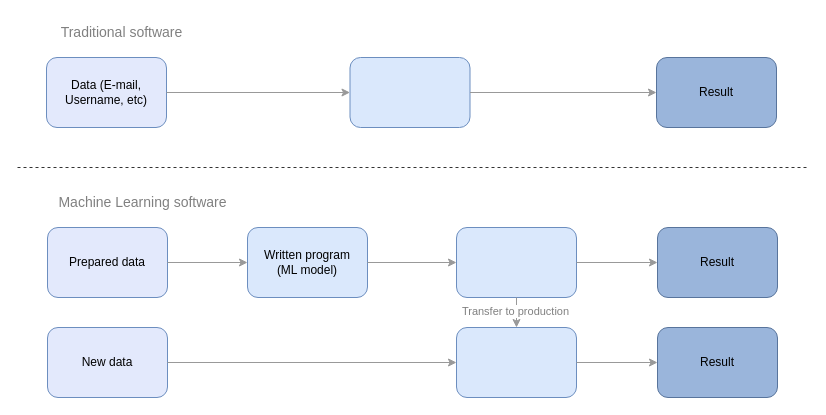
This 826x415 diagram has some shape labels left out. The shapes that lost their labels are listed below. From the top down, each one's box as (x1, y1, x2, y2) in pixels, then its label:
(349, 56, 470, 128): Written program based on rules
(456, 226, 576, 298): Train model & fit parameters
(456, 326, 576, 398): Use program (ML model) for inferencing
